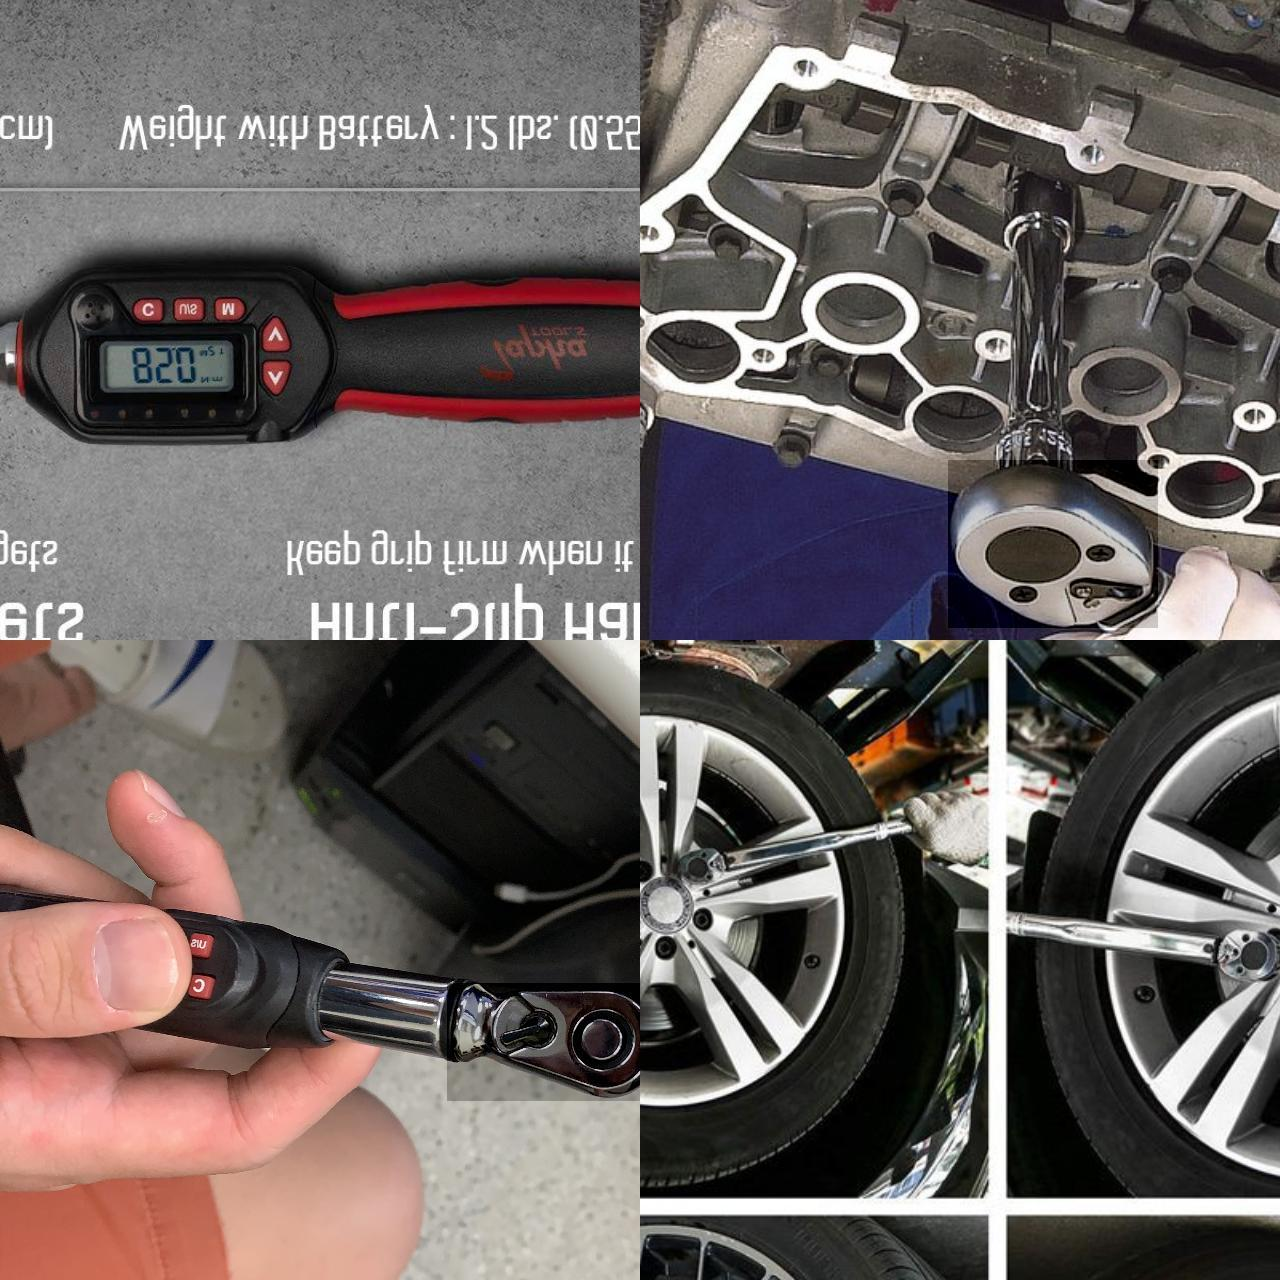Tool: (948, 460, 1158, 628), (447, 983, 640, 1101), (1220, 928, 1280, 981), (680, 842, 730, 888)
